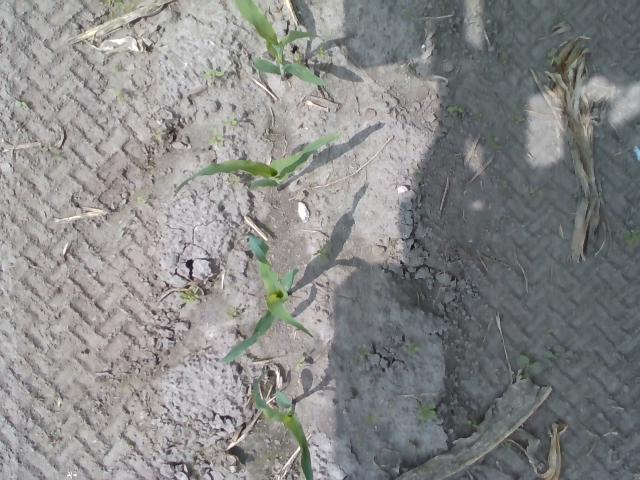Maize: (220, 234, 316, 366), (172, 132, 338, 198), (233, 0, 324, 88), (250, 376, 314, 480)
Weeds: (518, 353, 543, 379), (418, 405, 441, 424), (624, 228, 640, 244), (207, 134, 223, 146), (404, 344, 422, 354), (446, 104, 463, 114), (208, 69, 224, 79), (225, 308, 238, 320), (181, 292, 194, 304), (546, 55, 560, 66), (316, 249, 329, 260), (224, 118, 238, 128), (499, 438, 513, 448), (314, 49, 326, 60), (466, 418, 479, 428), (14, 98, 24, 107)
